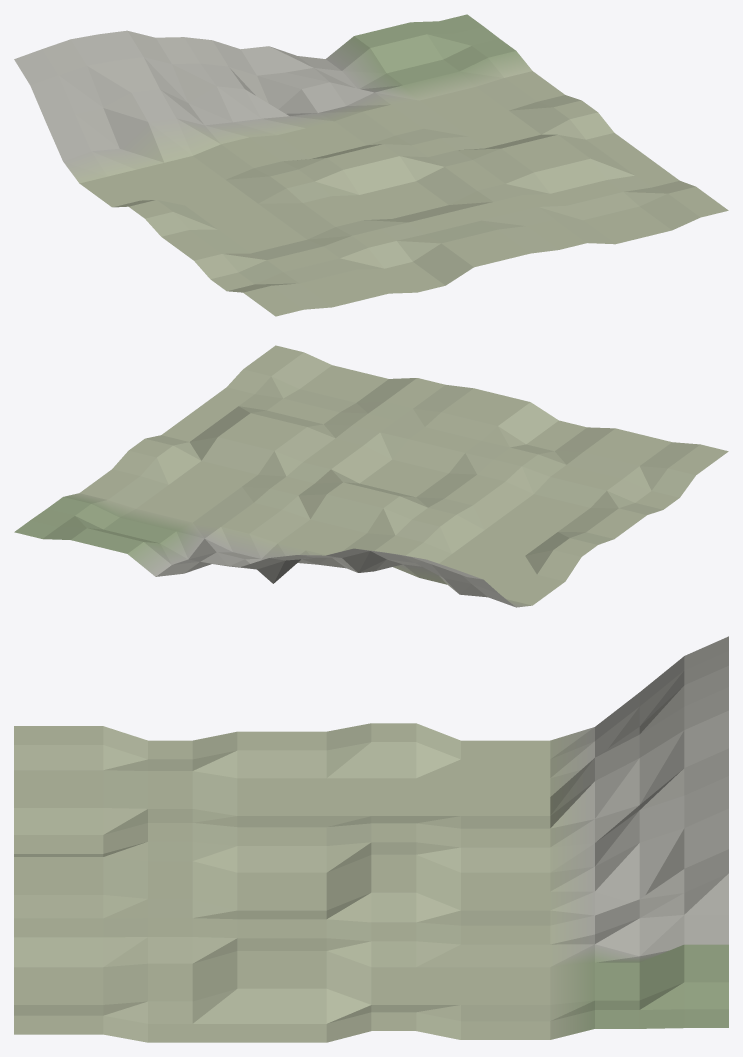
3 views of the same model, one above another, from view 1: azimuth 30°, elevation 25°; view 2: azimuth 150°, elevation 25°; view 3: azimuth 270°, elevation 25° (orthographic). The views are drawn at different scales.
Bounding box in the file's own units: 32 × 6.23 × 32.
